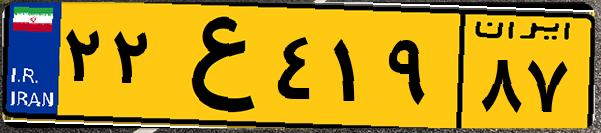1: (330, 28, 385, 110)
2: (57, 26, 110, 100), (110, 28, 158, 98)
4: (270, 28, 330, 110)
7: (525, 38, 570, 115)
8: (475, 38, 525, 113)
9: (385, 28, 445, 110)
ع: (158, 12, 270, 120)
